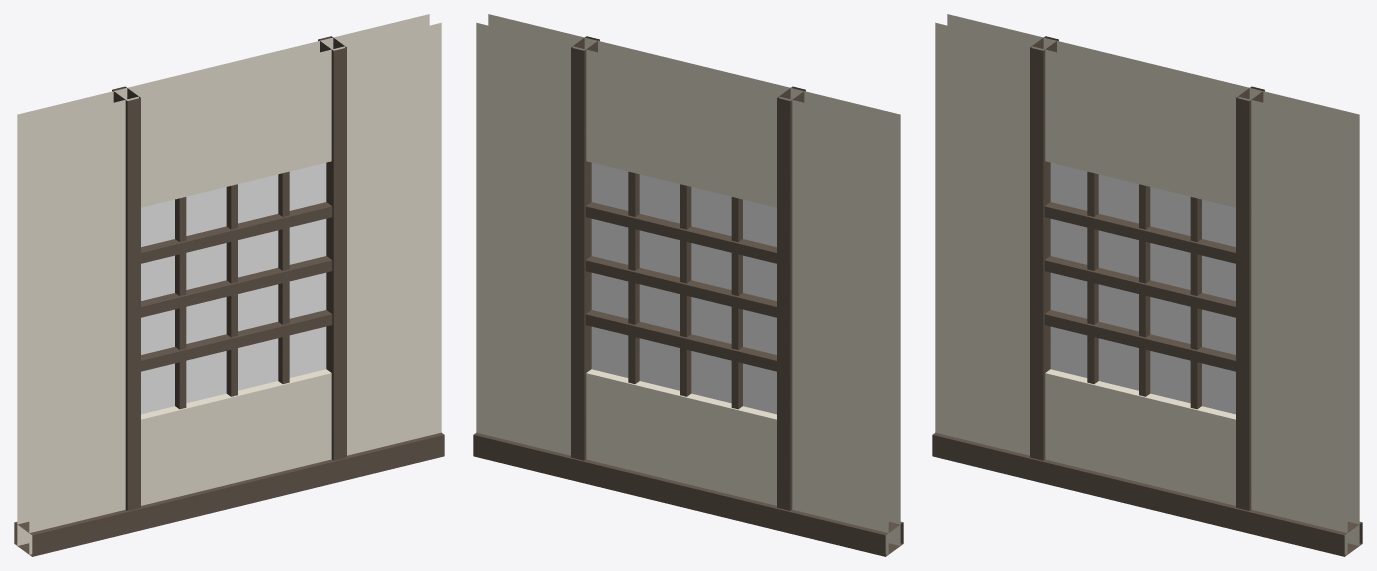
Rendered from Wall_1H_Window.fbx.
3 views of the same model, side by side, from view 1: azimuth 30°, elevation 25°; view 2: azimuth 150°, elevation 25°; view 3: azimuth 330°, elevation 25° (orthographic).
Visible parts, largest first — view 1: pCube766; view 2: pCube766; view 3: pCube766.
Part boxes in pixels (x1,y1,x2,y2): pCube766: (14,14,444,556); pCube766: (473,14,903,556); pCube766: (932,14,1362,556).
Size of the model in its own units: 400 by 400 by 30.
